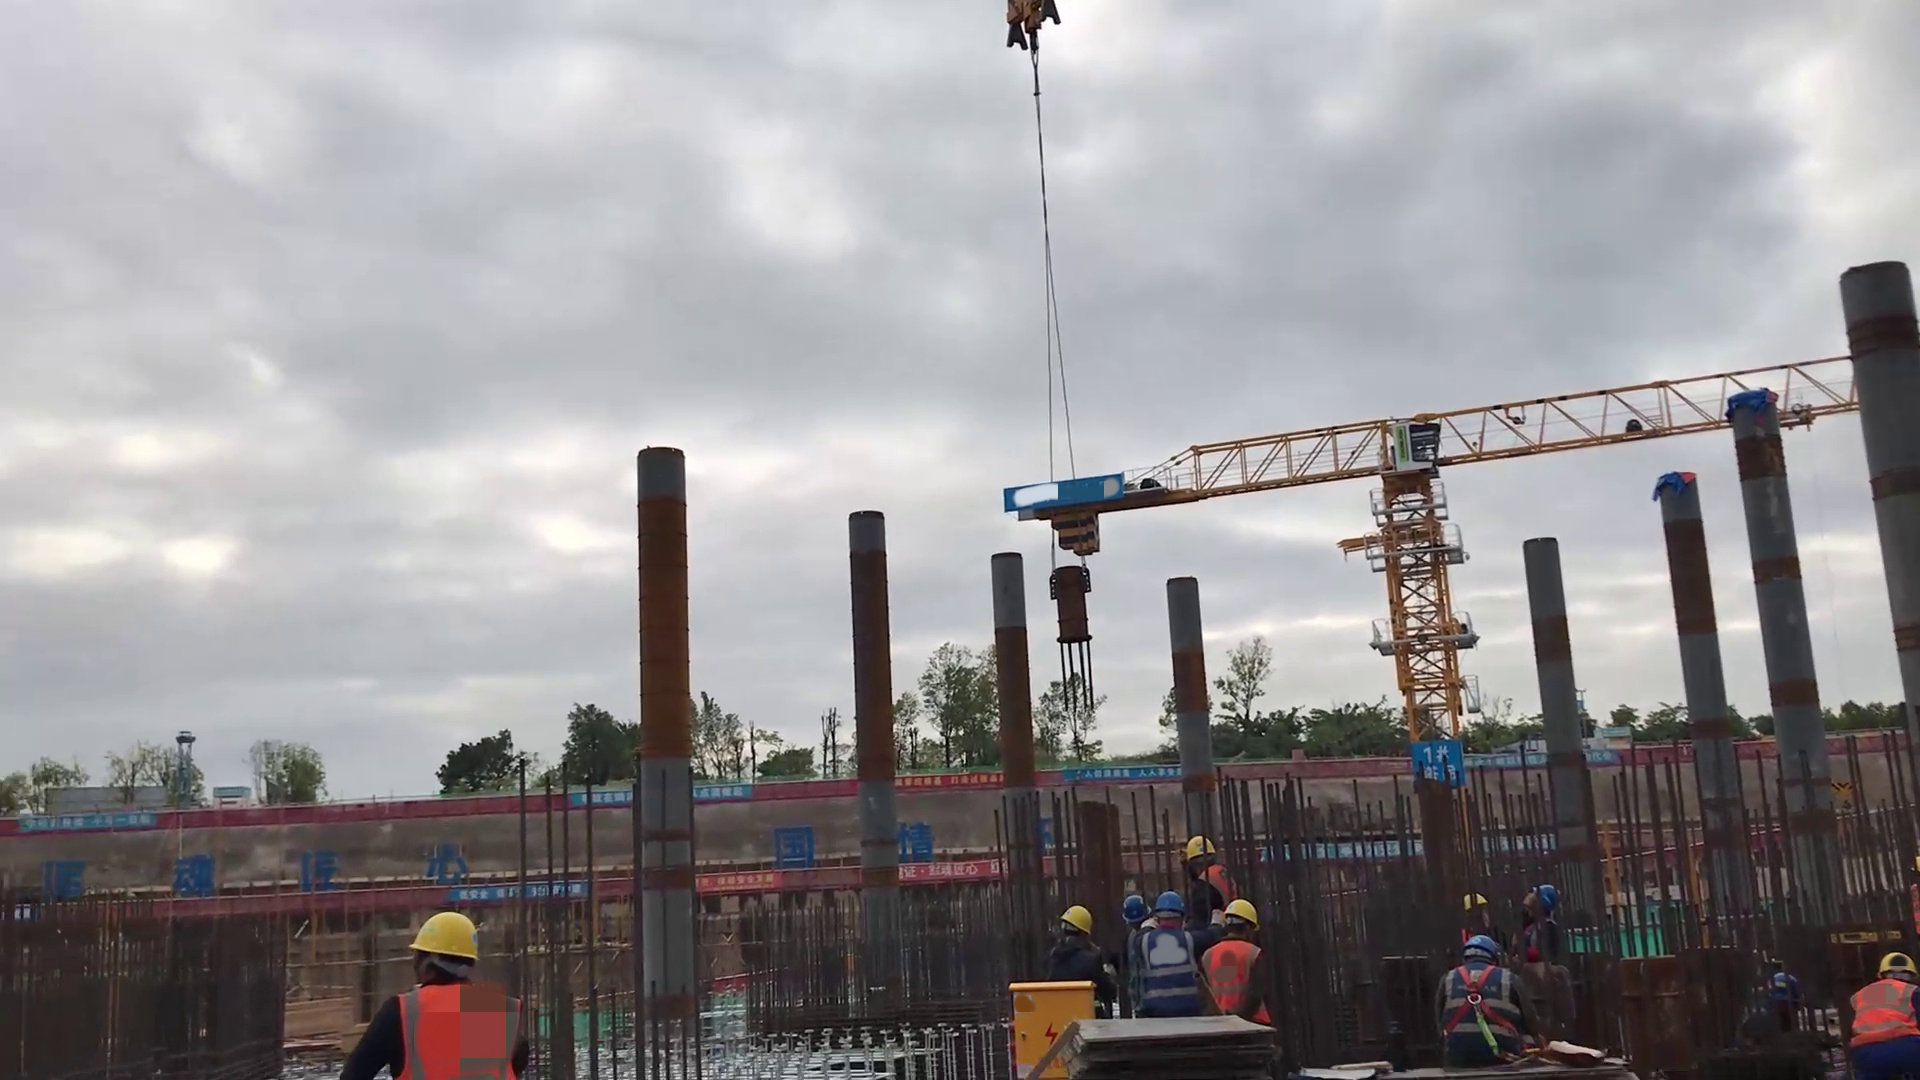board: (1049, 1002, 1256, 1080)
ebox: (1009, 972, 1101, 1057)
helmet: (394, 904, 503, 972), (1223, 889, 1273, 928), (1766, 971, 1809, 1009), (1056, 896, 1091, 939), (1871, 954, 1916, 985), (1530, 881, 1565, 908), (1189, 836, 1220, 867), (1161, 890, 1185, 920), (1474, 936, 1506, 959), (1468, 892, 1495, 915), (1126, 896, 1147, 920)
hook: (1009, 1, 1062, 52)
person: (353, 920, 543, 1080), (1439, 934, 1536, 1064), (1839, 945, 1920, 1068), (1213, 901, 1276, 1031), (1142, 895, 1208, 1017), (1743, 960, 1808, 1075), (1061, 913, 1118, 995), (1522, 875, 1569, 968), (1183, 832, 1241, 904), (1457, 888, 1500, 935), (1904, 847, 1920, 935), (1120, 894, 1149, 934)
vest: (388, 989, 528, 1080), (1439, 973, 1507, 1053), (1209, 939, 1271, 1023), (1854, 979, 1920, 1053), (1147, 931, 1203, 1006), (1066, 948, 1111, 1013), (1528, 921, 1568, 988), (1764, 1001, 1817, 1049), (1128, 925, 1153, 1015), (1203, 868, 1242, 902), (1452, 922, 1543, 935), (1908, 882, 1920, 922)
